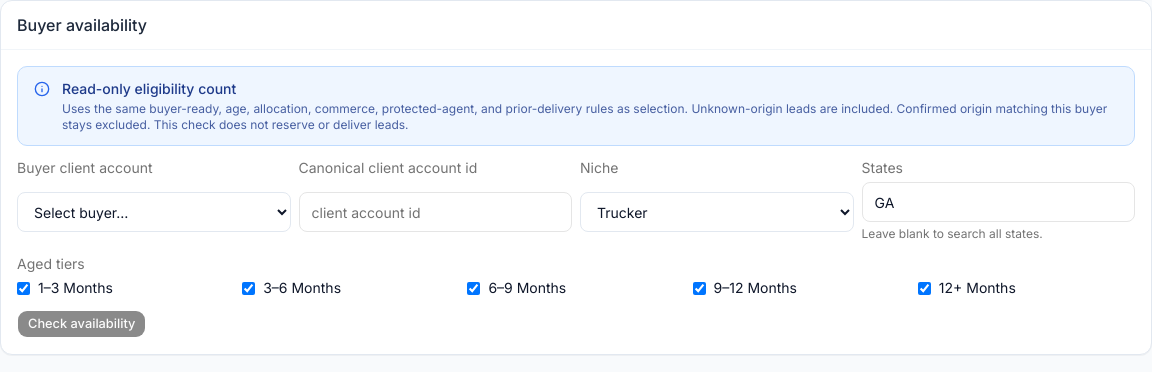
Test: BuyerAvailabilityPanel › does not show a total when the job is cancelled
Type "client_jr_laird" into the field with test id "buyer-availability-client-id" at (435, 212), box [298,192,572,232]
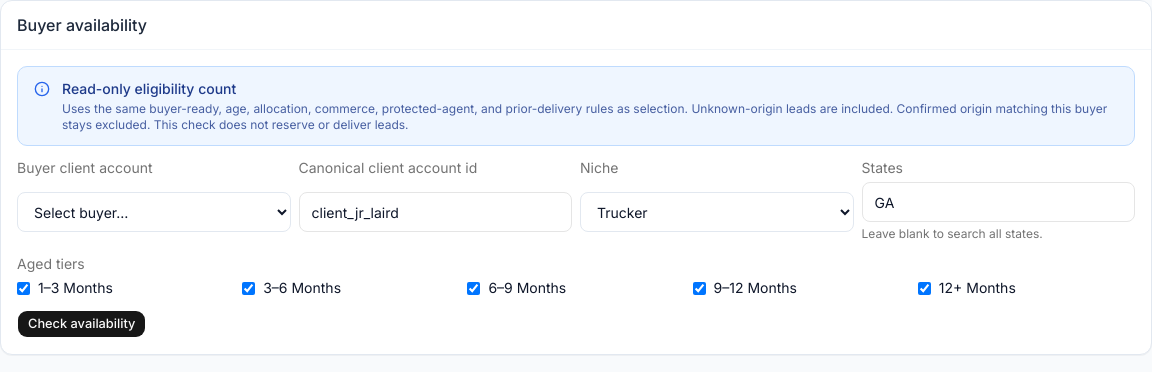
Click the button with test id "buyer-availability-submit" at (82, 324), box [17,310,146,338]
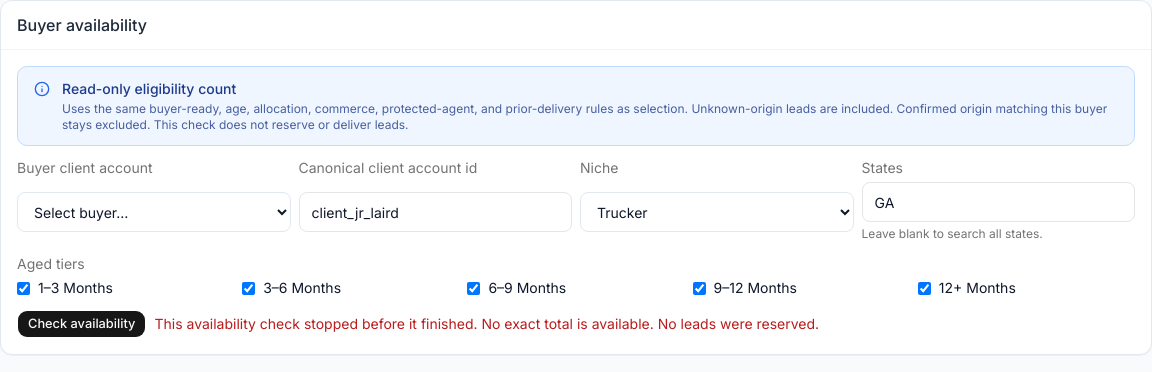
Result: the text with test id "buyer-availability-error" shows "stopped before it finished" at [154,315,819,332]
Result: the text with test id "buyer-availability-error" shows "No exact total" at [154,315,819,332]
